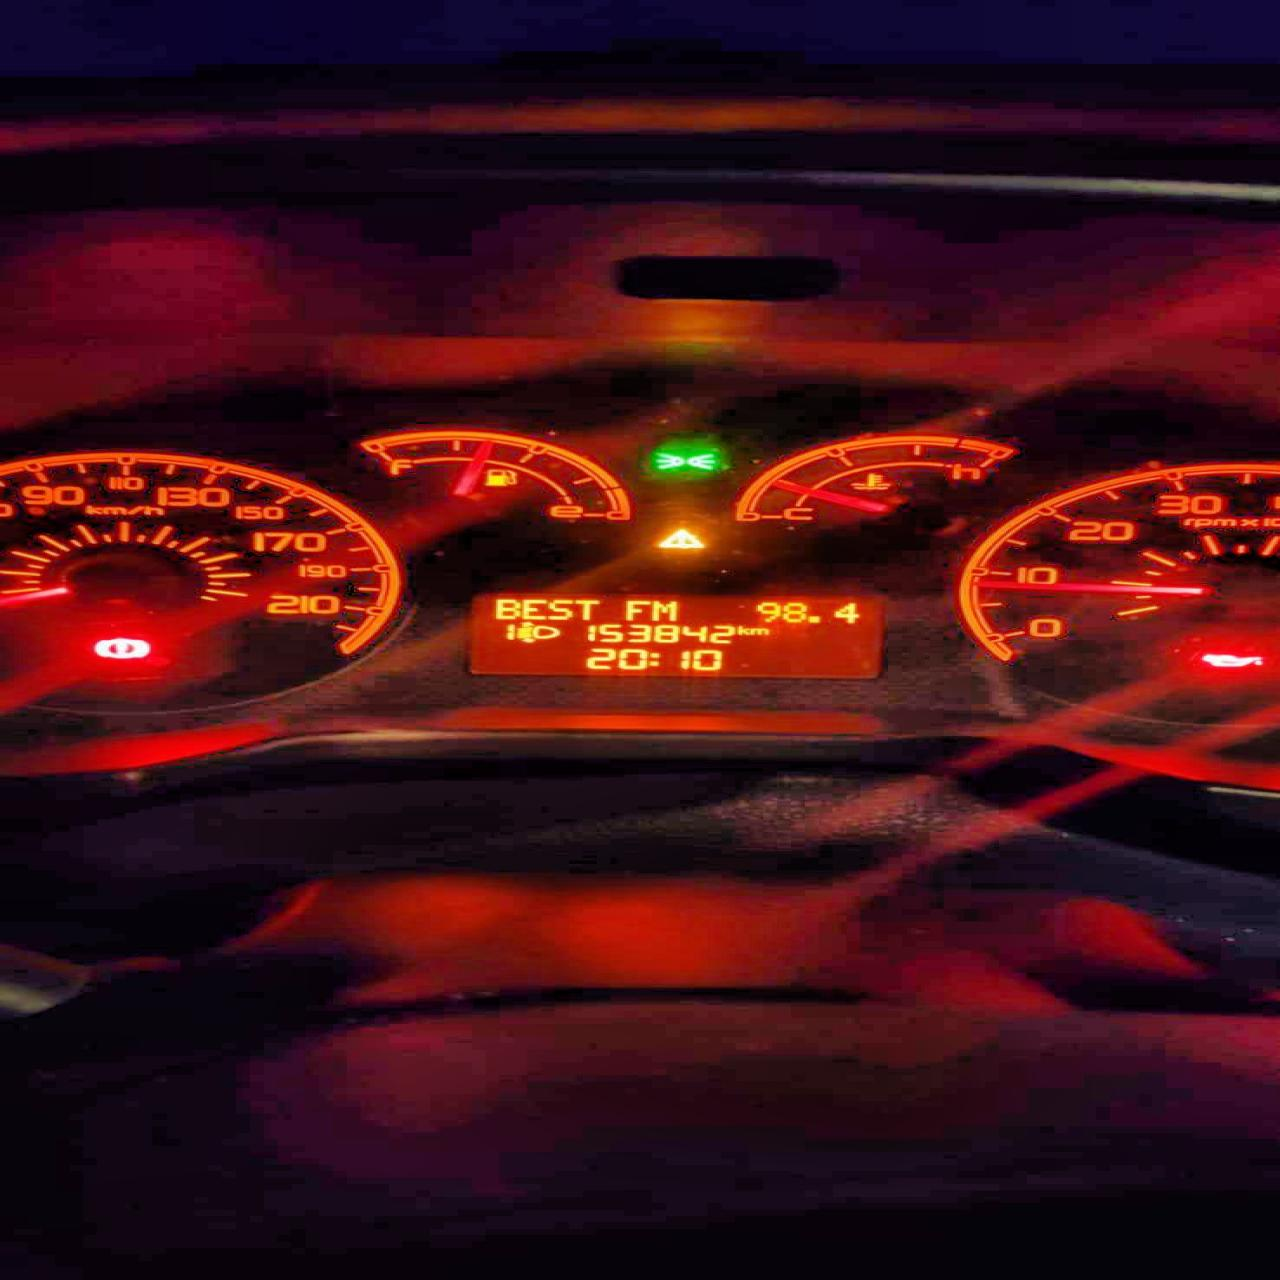-: (805, 614, 824, 624)
0: (690, 648, 723, 672), (618, 647, 647, 670)
1: (675, 647, 690, 670), (501, 621, 515, 640), (585, 622, 597, 644)
2: (583, 647, 614, 669), (708, 622, 734, 644)
3: (626, 622, 651, 642)
4: (831, 599, 862, 625), (682, 622, 707, 644)
5: (598, 622, 622, 644)
8: (782, 600, 806, 624), (654, 622, 680, 644)
9: (755, 600, 781, 621)
X: (572, 597, 604, 621), (647, 599, 680, 621), (621, 597, 651, 621), (492, 595, 518, 621), (520, 595, 545, 621), (547, 597, 572, 621), (647, 651, 661, 668), (749, 626, 770, 635), (735, 624, 749, 634)
odometer: (470, 591, 879, 679)
